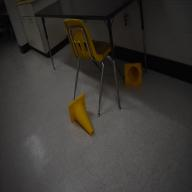cone: (68, 92, 94, 136), (124, 62, 142, 88)
